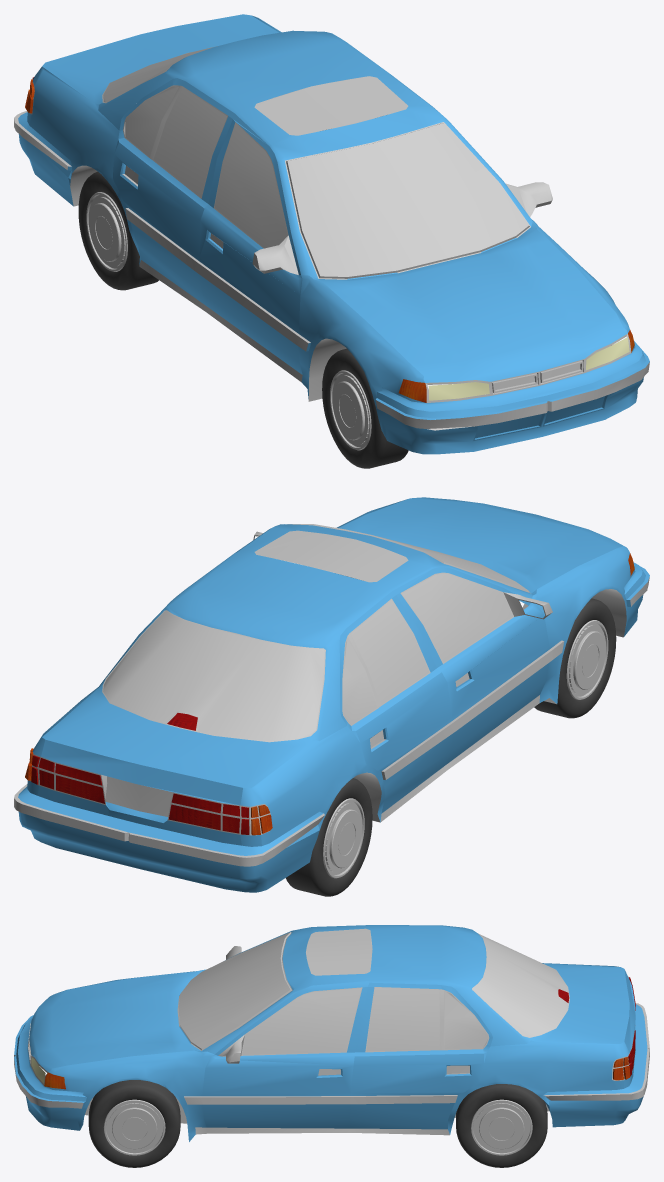
File: xiaojiaoche3.gltf
The picture shows the model from 3 angles, top to bottom: view 1: azimuth 30°, elevation 25°; view 2: azimuth 150°, elevation 25°; view 3: azimuth 270°, elevation 25°; orthographic projection. The views are drawn at different scales.
Visible parts, largest first — view 1: node_Civic_bodydetachobj1_-233278, node_Civic_bodydetachobj4_-233284, node_Civic_bodydetachobj2_-233280, node_Civic_bodydetachobj9_-233294, node_Civic_bodydetachobj10_-233296, node_Civic_bodydetachobj3_-233282, node_Civic_bodydetachobj8_-233292, node_Civic_bodydetachobj7_-233290; view 2: node_Civic_bodydetachobj1_-233278, node_Civic_bodydetachobj4_-233284, node_Civic_bodydetachobj2_-233280, node_Civic_bodydetachobj9_-233294, node_Civic_bodydetachobj10_-233296, node_Civic_bodydetachobj5_-233286, node_Civic_bodydetachobj3_-233282, node_Civic_bodydetachobj7_-233290; view 3: node_Civic_bodydetachobj1_-233278, node_Civic_bodydetachobj4_-233284, node_Civic_bodydetachobj2_-233280, node_Civic_bodydetachobj9_-233294, node_Civic_bodydetachobj10_-233296, node_Civic_bodydetachobj6_-233288.
Boxes of the visible parts, bbox=[...] form: node_Civic_bodydetachobj1_-233278: bbox=[18, 14, 649, 454]; node_Civic_bodydetachobj4_-233284: bbox=[103, 46, 528, 276]; node_Civic_bodydetachobj2_-233280: bbox=[14, 52, 649, 430]; node_Civic_bodydetachobj9_-233294: bbox=[78, 171, 408, 468]; node_Civic_bodydetachobj10_-233296: bbox=[86, 192, 371, 450]; node_Civic_bodydetachobj3_-233282: bbox=[70, 165, 346, 401]; node_Civic_bodydetachobj8_-233292: bbox=[428, 337, 629, 400]; node_Civic_bodydetachobj7_-233290: bbox=[25, 79, 426, 402]; node_Civic_bodydetachobj1_-233278: bbox=[18, 497, 649, 892]; node_Civic_bodydetachobj4_-233284: bbox=[103, 531, 528, 741]; node_Civic_bodydetachobj2_-233280: bbox=[14, 524, 649, 866]; node_Civic_bodydetachobj9_-233294: bbox=[286, 576, 616, 896]; node_Civic_bodydetachobj10_-233296: bbox=[323, 620, 608, 878]; node_Civic_bodydetachobj5_-233286: bbox=[31, 713, 249, 834]; node_Civic_bodydetachobj3_-233282: bbox=[353, 589, 626, 822]; node_Civic_bodydetachobj7_-233290: bbox=[251, 553, 634, 835]; node_Civic_bodydetachobj1_-233278: bbox=[14, 925, 647, 1141]; node_Civic_bodydetachobj4_-233284: bbox=[178, 929, 568, 1054]; node_Civic_bodydetachobj2_-233280: bbox=[14, 928, 649, 1135]; node_Civic_bodydetachobj9_-233294: bbox=[88, 1080, 547, 1167]; node_Civic_bodydetachobj10_-233296: bbox=[103, 1099, 532, 1155]; node_Civic_bodydetachobj6_-233288: bbox=[44, 1057, 630, 1089].
Size of the model in its own units: 1.91 by 1.46 by 4.76.
